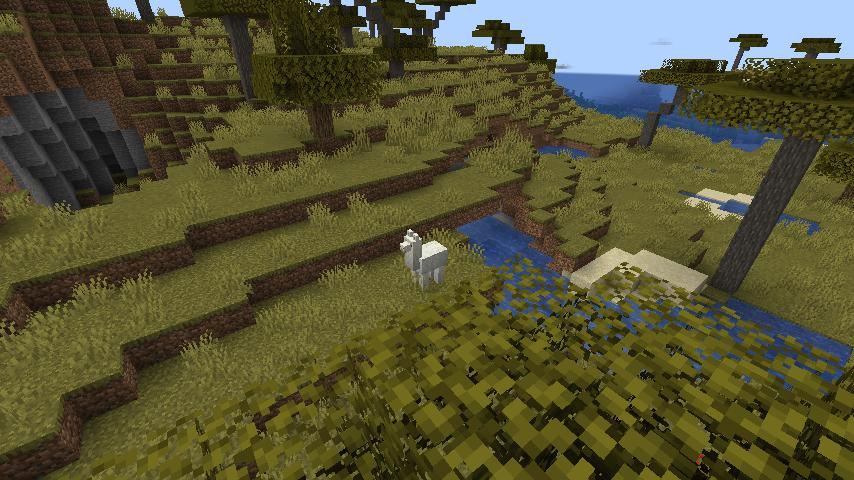llama: (398, 224, 449, 293)
